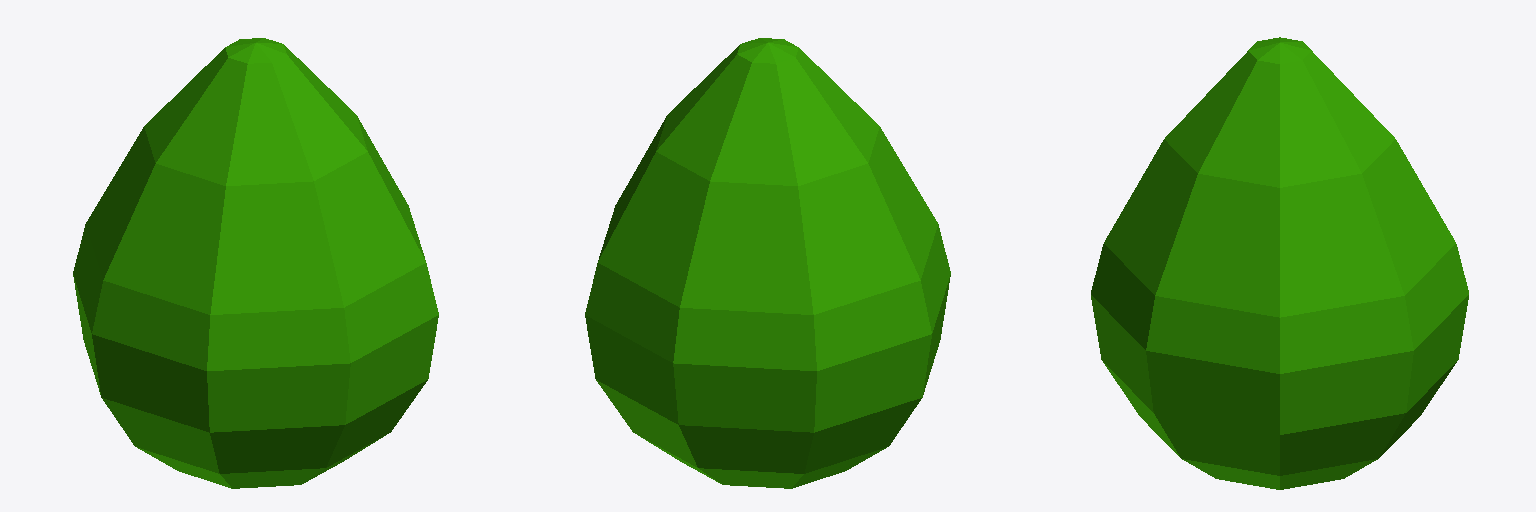
Rendered from treeE.obj.
3 views of the same model, side by side, from view 1: azimuth 30°, elevation 25°; view 2: azimuth 150°, elevation 25°; view 3: azimuth 270°, elevation 25° (orthographic).
Parts seen in each view (by area): view 1: Tree_E_Circle.004; view 2: Tree_E_Circle.004; view 3: Tree_E_Circle.004.
Boxes of the visible parts, x1,y1,x2,y2 form: Tree_E_Circle.004: [73, 38, 438, 488]; Tree_E_Circle.004: [585, 38, 950, 488]; Tree_E_Circle.004: [1091, 37, 1468, 489].
Size of the model in its own units: 0.821 by 1.02 by 0.821.